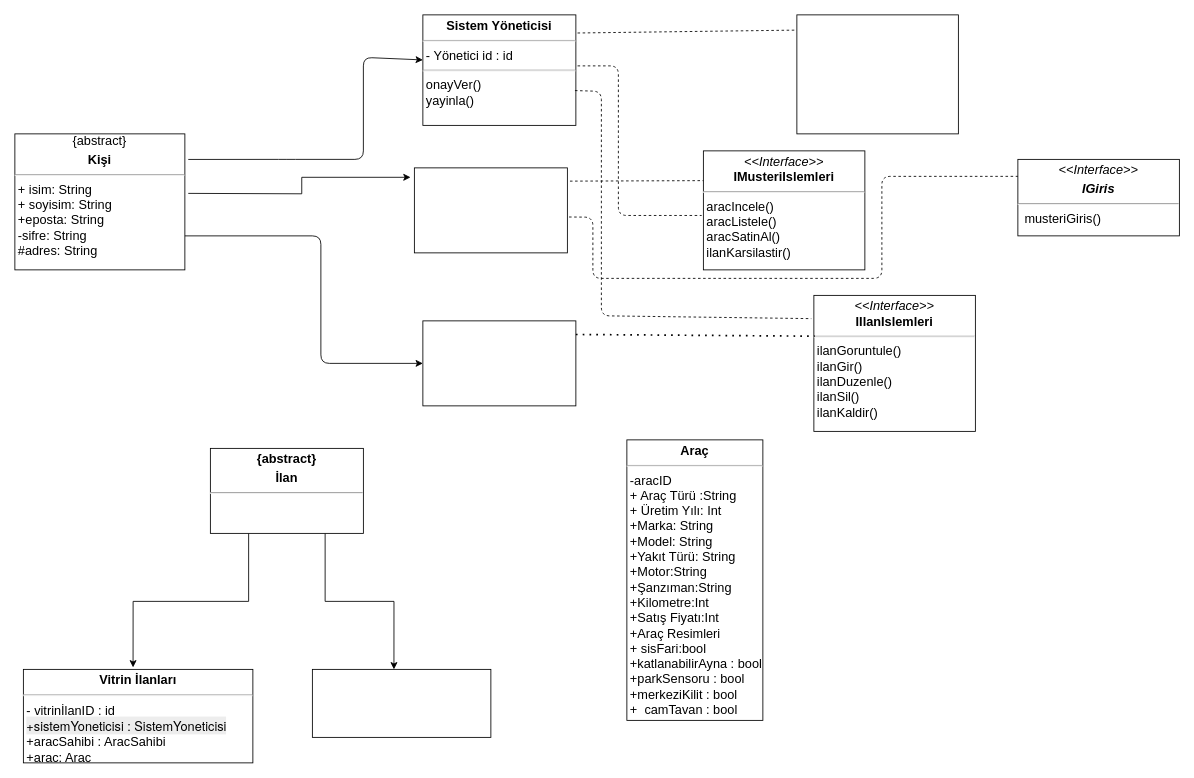
Some shapes in this 1194 by 778 pixel diagram are drawn without their labels. Each missing label, with the centre of its shape:
<<Interface>> IAracslemleri markaEkle() modelEkle() turEkle() donanimEkle(): the point at 877,74
Araç Sahibi - AraçSahibiID : id: the point at 499,363
Bekleyen İlanlar - BekleyenİlanID : id +aracSahibi : AracSahibi: the point at 401,703
Müşteri - Müşteri id : id: the point at 490,210
